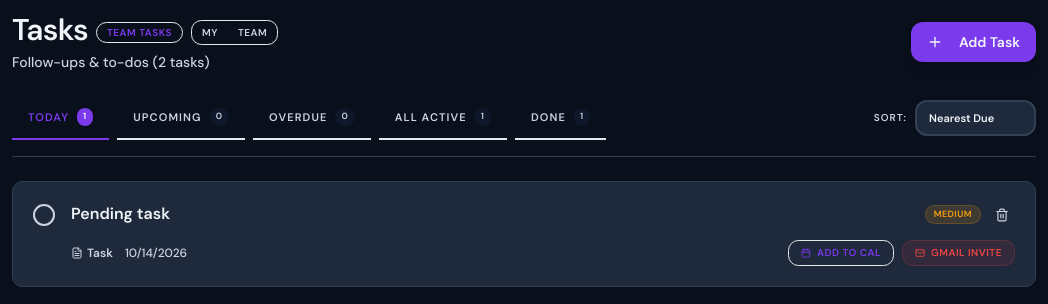
Scenario: CRMTasks › filters tasks by "completed" tab
This screenshot has width=1048, height=304.
Click the text "Done". click: [548, 117]
box: x1=531 y1=108 x2=566 y2=125
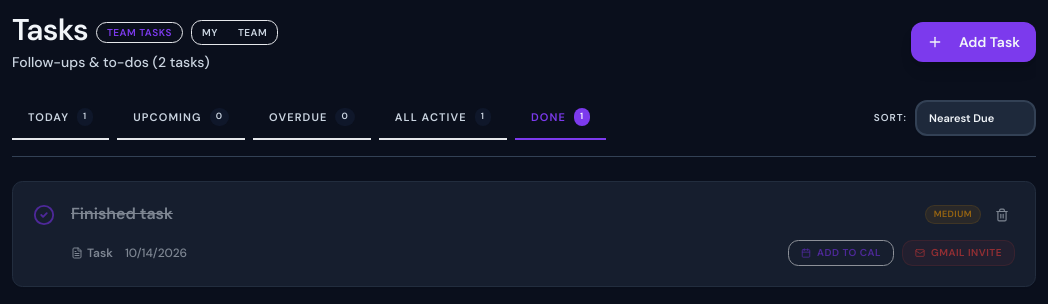
Now the heading "Finished task" is shown, box x1=71 y1=202 x2=173 y2=226
Now the heading "Pending task" is gone
